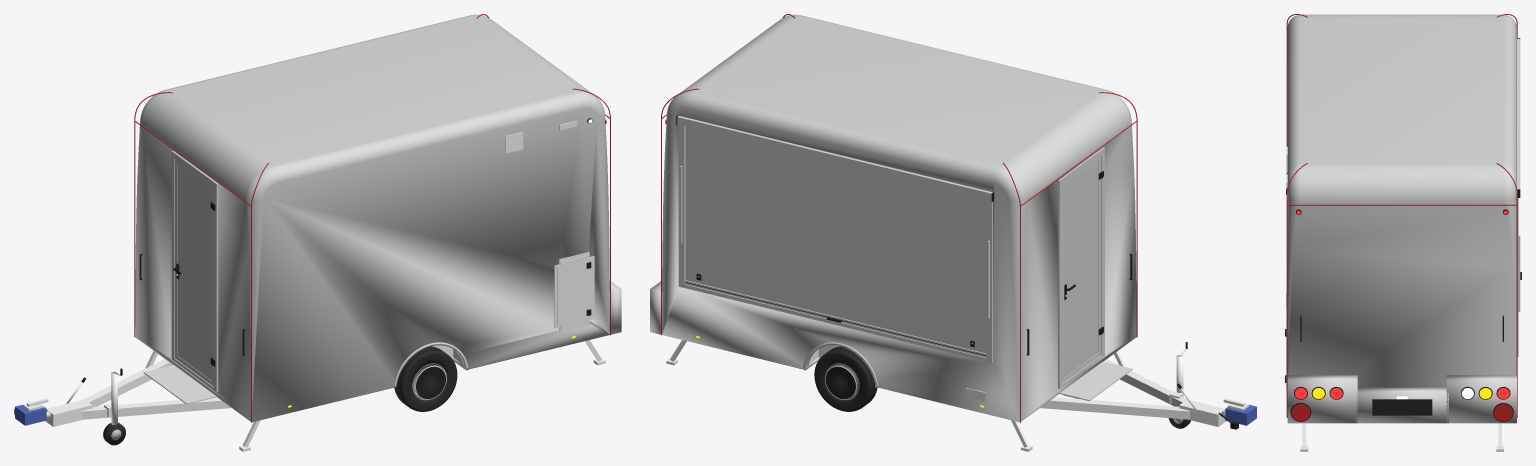
The model's file is Anhaenger_v2.glb.
3 renders of one model, left to right at view 1: azimuth 30°, elevation 25°; view 2: azimuth 150°, elevation 25°; view 3: azimuth 270°, elevation 25°, orthographic.
Parts seen in each view (by area): view 1: v2_Aussenhuelle, v2_Tuer_Fuellung, v2_Serviceklappe_Tuer, v2_Tuer_Zarge, v2_Reifen_links, v2_Deichsel_Holm_1, v2_Trittblech_Riffel, v2_Tuer_Fluegelrahmen, v2_Deichsel_Holm_2, v2_Auflaufeinrichtung, v2_Radkappe_links, v2_Serviceklappe_Rahmen; view 2: v2_Aussenhuelle, v2_Klappe_Panel, v2_Tuer_Fuellung, v2_Klappe_Rahmen, v2_Klappe_Scharnierleiste, v2_Tuer_Zarge, v2_Reifen_rechts, v2_Deichsel_Holm_2, v2_Tuer_Fluegelrahmen, v2_Klappe_Profil_unten, v2_Trittblech_Riffel, v2_Deichsel_Holm_1 (+2 smaller); view 3: v2_Aussenhuelle, v2_Heckschuerze_links, v2_Heckschuerze_rechts, v2_Heckschuerze_Mitte, v2_Kennzeichen, v2_Klappe_Scharnierleiste, v2_Keder_hinten_links, v2_Keder_hinten_rechts, v2_Keder_hinten_waagrecht, v2_Klappe_Rahmen, v2_Keder_vorne_links, v2_Rueckstrahler_links (+1 smaller).
Boxes of the visible parts, left/top/right/bottom form: v2_Aussenhuelle: left=135, top=14, right=609, bottom=422; v2_Tuer_Fuellung: left=177, top=165, right=211, bottom=380; v2_Serviceklappe_Tuer: left=557, top=255, right=592, bottom=329; v2_Tuer_Zarge: left=171, top=151, right=218, bottom=391; v2_Reifen_links: left=394, top=346, right=457, bottom=411; v2_Deichsel_Holm_1: left=82, top=397, right=231, bottom=419; v2_Trittblech_Riffel: left=143, top=365, right=216, bottom=404; v2_Tuer_Fluegelrahmen: left=175, top=159, right=213, bottom=386; v2_Deichsel_Holm_2: left=83, top=359, right=172, bottom=406; v2_Auflaufeinrichtung: left=45, top=399, right=92, bottom=426; v2_Radkappe_links: left=416, top=366, right=445, bottom=398; v2_Serviceklappe_Rahmen: left=554, top=252, right=594, bottom=332; v2_Aussenhuelle: left=662, top=14, right=1136, bottom=422; v2_Klappe_Panel: left=685, top=127, right=985, bottom=353; v2_Tuer_Fuellung: left=1064, top=161, right=1098, bottom=377; v2_Klappe_Rahmen: left=678, top=116, right=992, bottom=362; v2_Klappe_Scharnierleiste: left=677, top=116, right=992, bottom=201; v2_Tuer_Zarge: left=1058, top=147, right=1104, bottom=388; v2_Reifen_rechts: left=814, top=346, right=877, bottom=411; v2_Deichsel_Holm_2: left=1040, top=397, right=1189, bottom=419; v2_Tuer_Fluegelrahmen: left=1062, top=156, right=1101, bottom=383; v2_Klappe_Profil_unten: left=685, top=280, right=985, bottom=357; v2_Trittblech_Riffel: left=1059, top=361, right=1132, bottom=401; v2_Deichsel_Holm_1: left=1104, top=359, right=1186, bottom=406; v2_Aussenhuelle: left=1287, top=14, right=1516, bottom=387; v2_Heckschuerze_links: left=1287, top=375, right=1357, bottom=423; v2_Heckschuerze_rechts: left=1446, top=375, right=1516, bottom=423; v2_Heckschuerze_Mitte: left=1355, top=387, right=1448, bottom=423; v2_Kennzeichen: left=1372, top=399, right=1432, bottom=415; v2_Klappe_Scharnierleiste: left=1517, top=38, right=1520, bottom=189; v2_Keder_hinten_links: left=1286, top=163, right=1307, bottom=417; v2_Keder_hinten_rechts: left=1496, top=163, right=1517, bottom=417; v2_Keder_hinten_waagrecht: left=1287, top=204, right=1516, bottom=205; v2_Klappe_Rahmen: left=1517, top=39, right=1518, bottom=356; v2_Keder_vorne_links: left=1286, top=14, right=1307, bottom=188; v2_Rueckstrahler_links: left=1291, top=404, right=1310, bottom=421.
Bounding box in the file's own units: 55.6 × 27.27 × 21.27.
